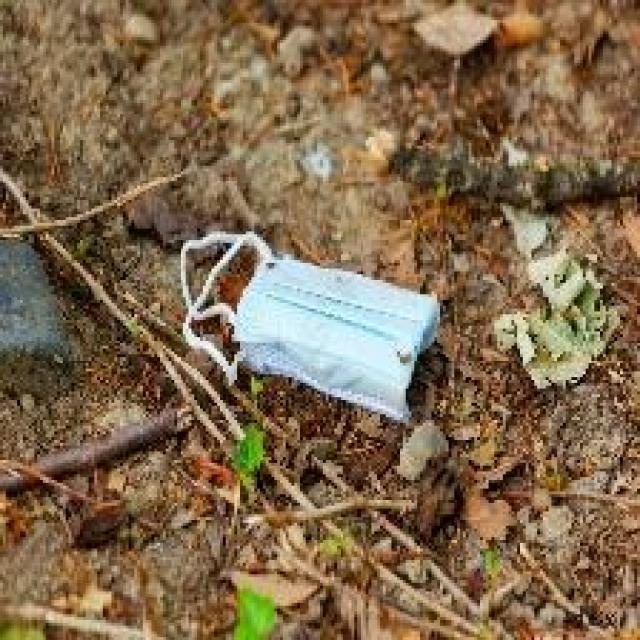Mask: (136, 192, 453, 442)
